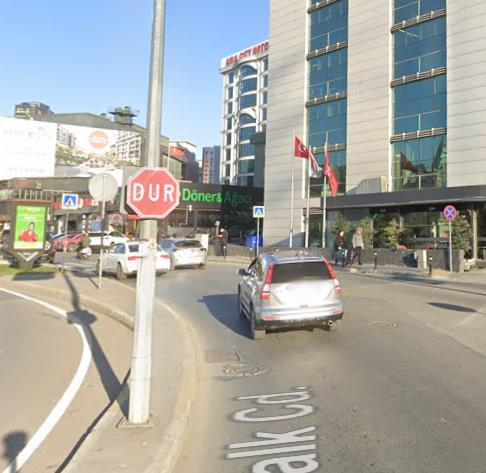stop: (129, 167, 180, 218)
